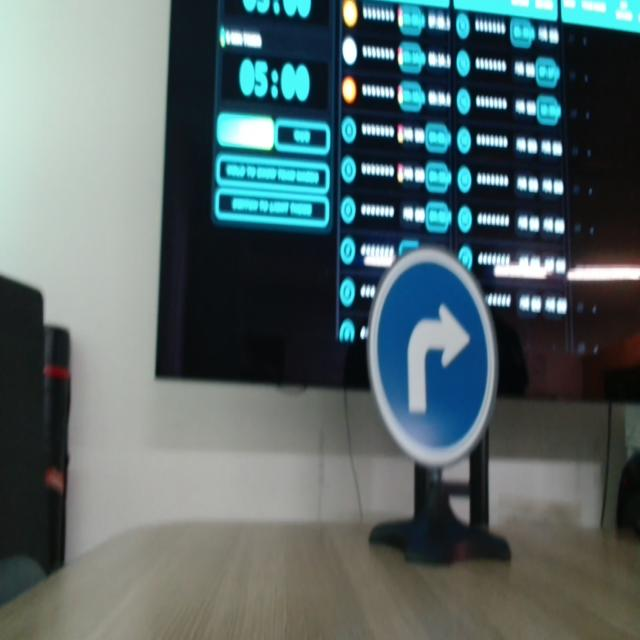right_dierection: (346, 209, 499, 486)
